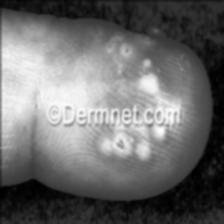Toxin: (111, 128, 131, 160), (140, 70, 160, 96)
